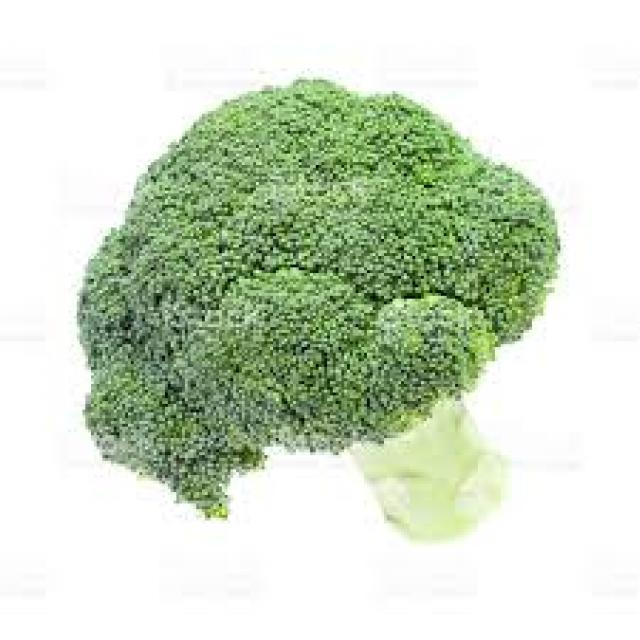organic waste: (71, 77, 555, 529)
